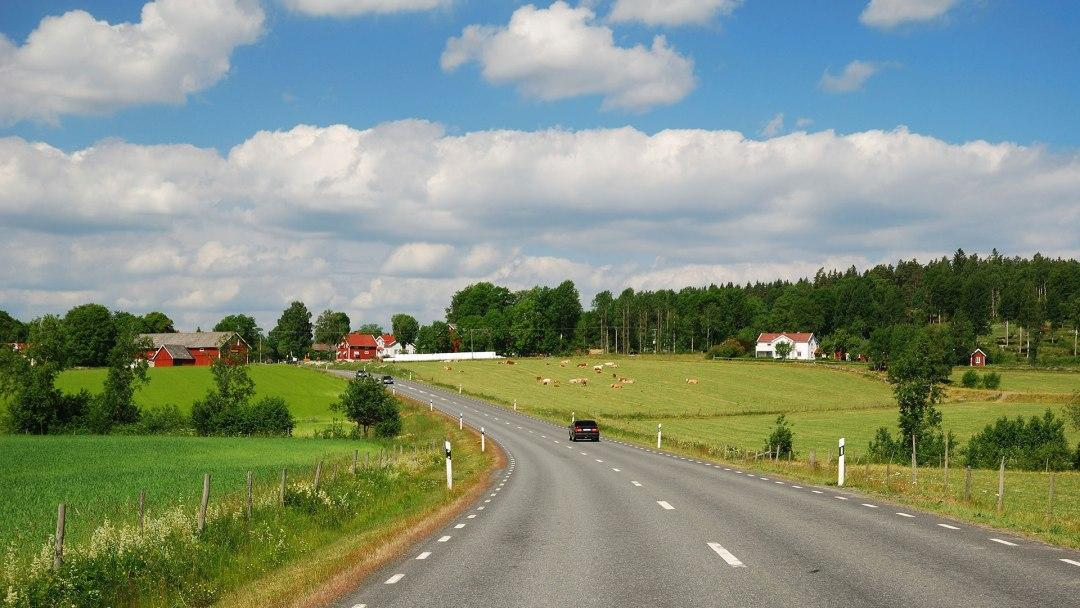car: (565, 415, 601, 445)
cloud: (0, 93, 800, 264)
house: (134, 331, 258, 367), (748, 325, 822, 363), (335, 330, 411, 364)
